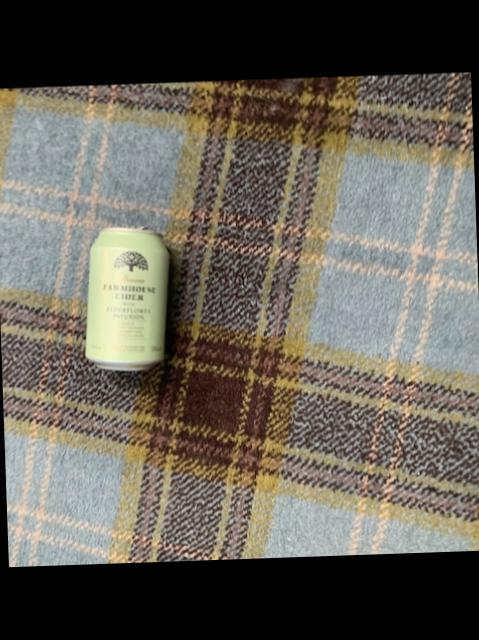metal: (83, 230, 166, 372)
